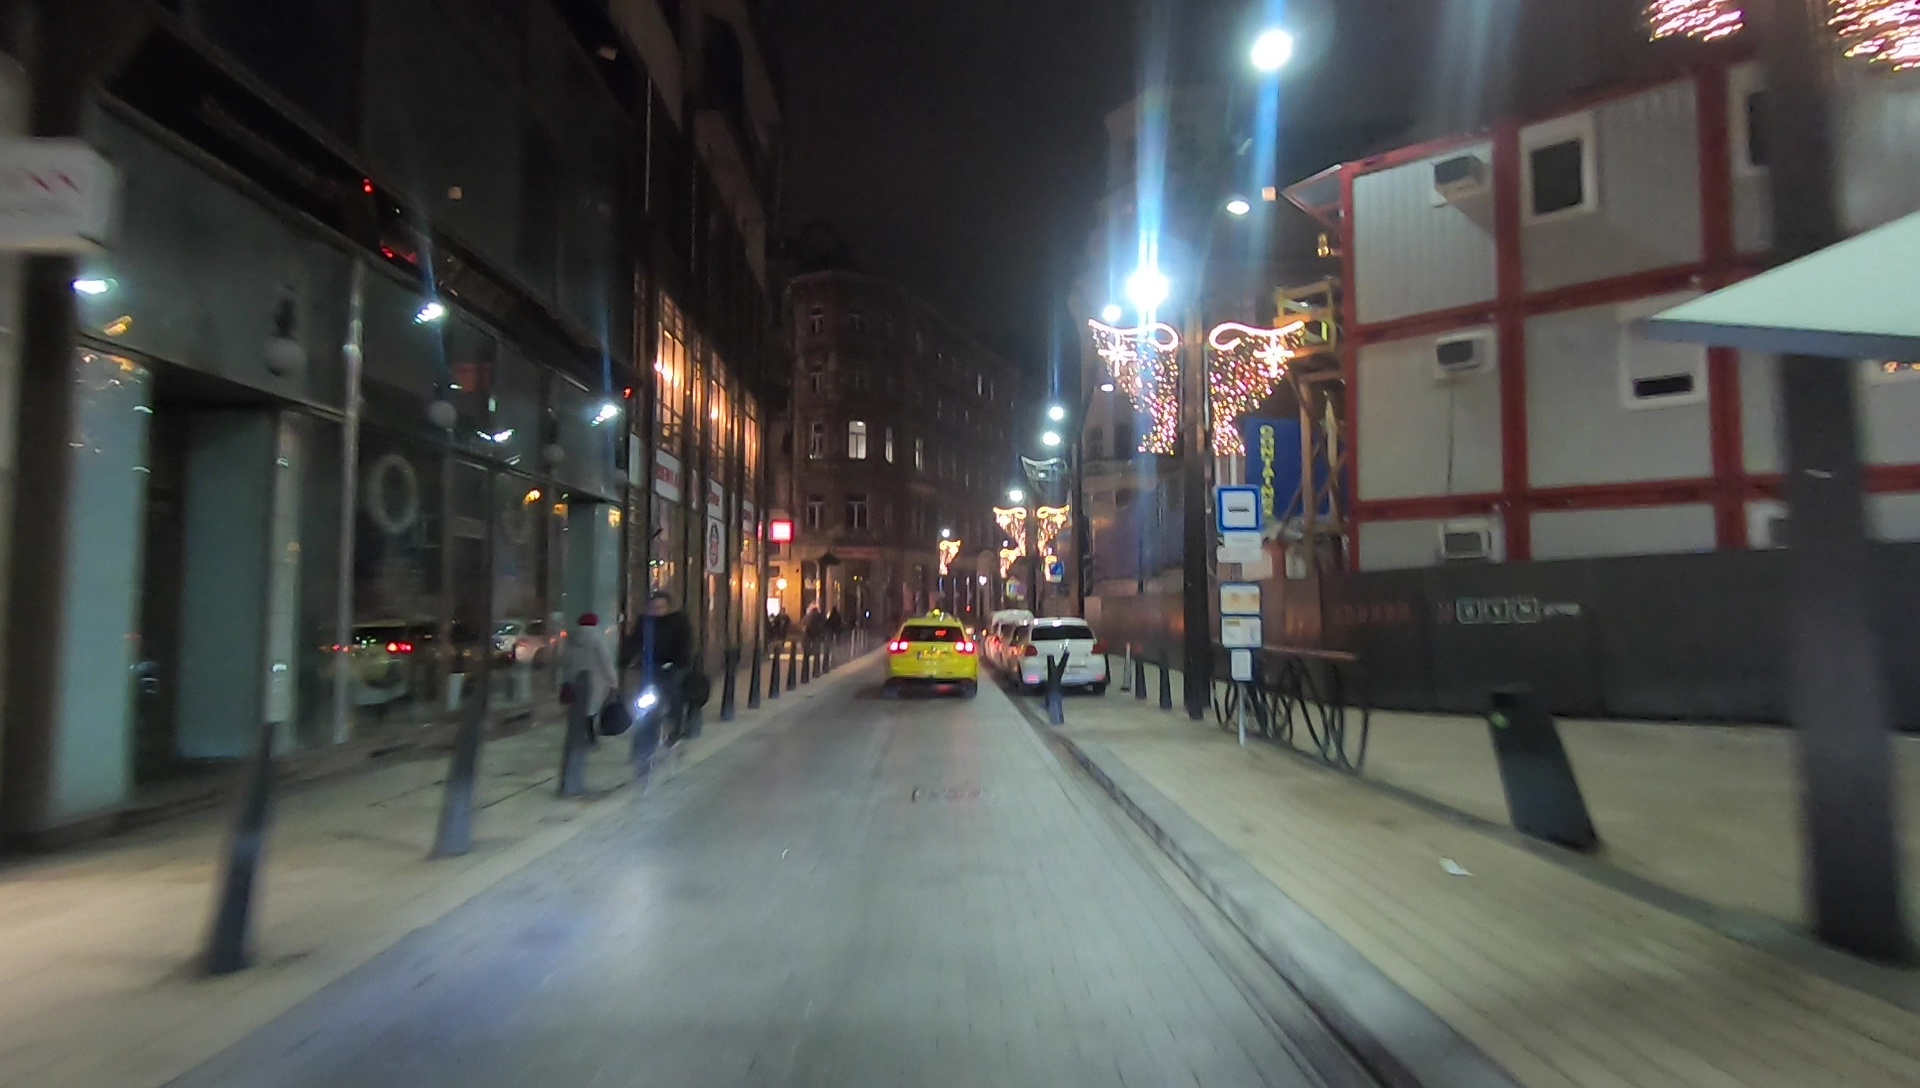person: (554, 608, 619, 771), (804, 605, 823, 666), (825, 605, 843, 663)
